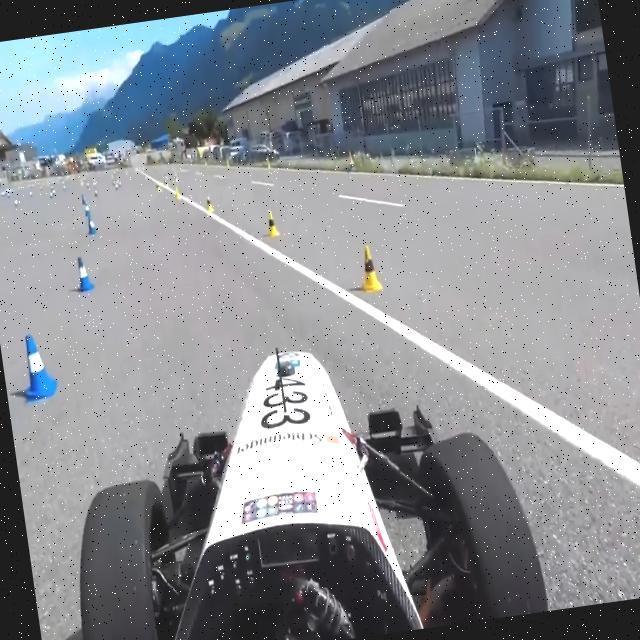blue_cone: (14, 324, 62, 408), (71, 252, 95, 294), (86, 215, 98, 238), (84, 198, 92, 220), (80, 192, 86, 208)
yellow_cone: (355, 244, 382, 294), (264, 208, 279, 238), (203, 194, 214, 213), (174, 186, 181, 200), (154, 182, 162, 194)
